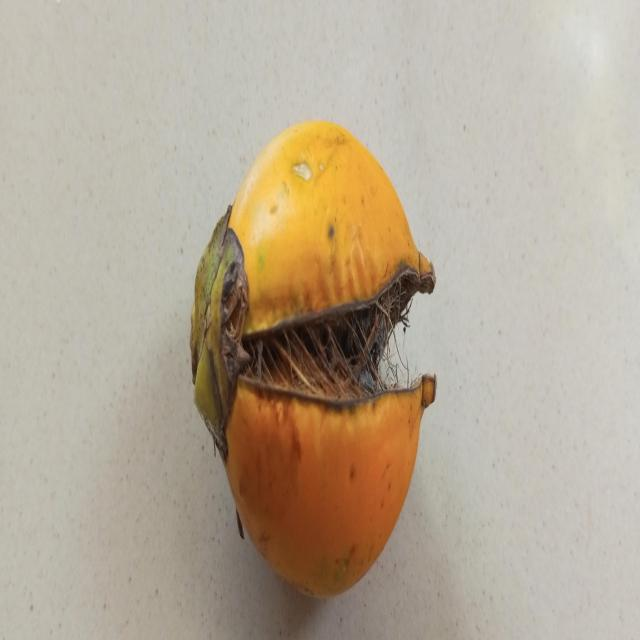damaged: (191, 123, 438, 602)
